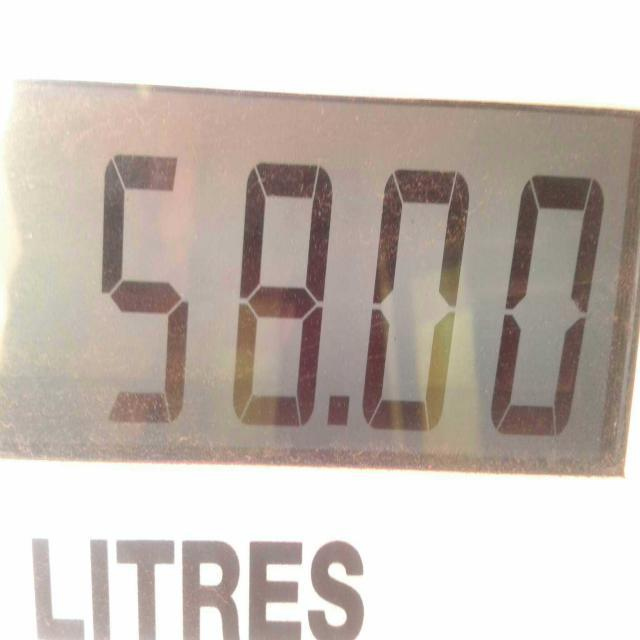.: (323, 391, 358, 436)
0: (487, 166, 605, 448), (362, 155, 476, 429)
5: (98, 143, 198, 431)
8: (235, 147, 325, 429)
screen: (0, 75, 630, 475)
